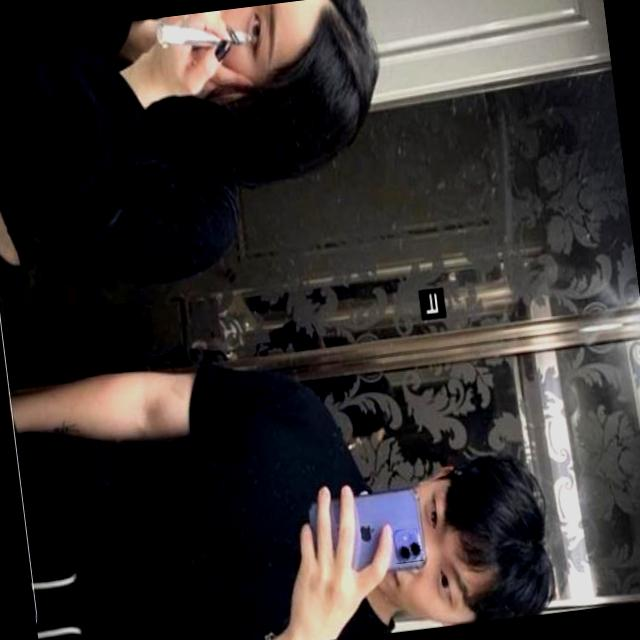lens_back: (393, 543, 411, 563), (406, 540, 422, 560)
phone: (302, 483, 429, 585)
